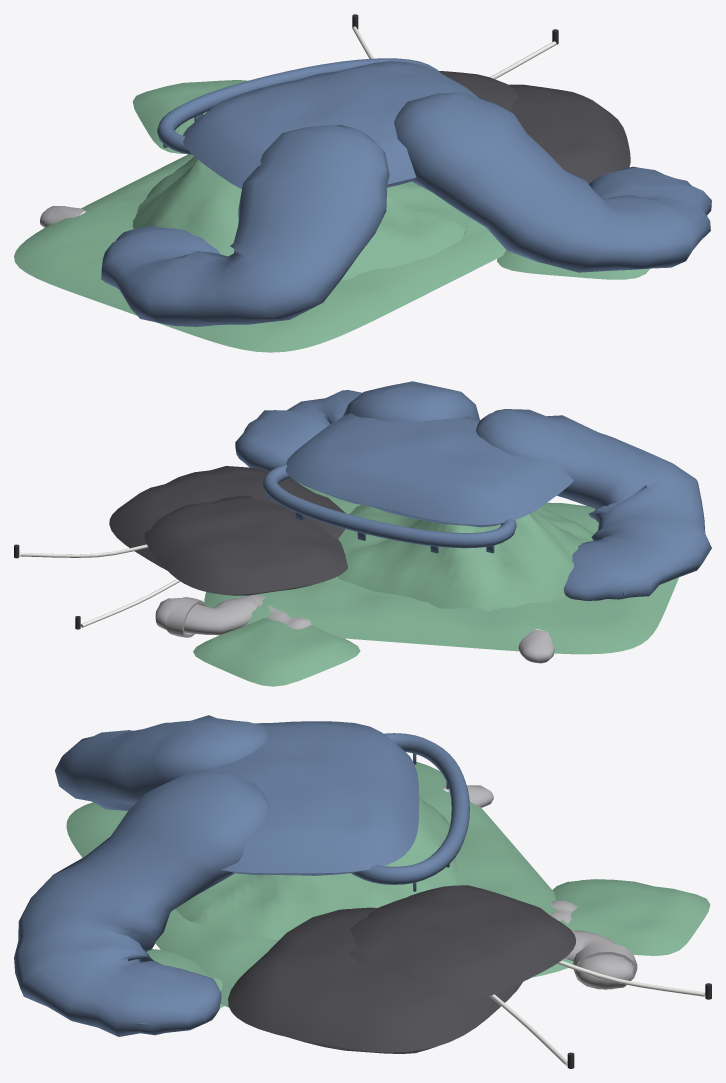
Rendered from textiles_clothes_pile_c.fbx.
3 views of the same model, one above another, from view 1: azimuth 30°, elevation 25°; view 2: azimuth 150°, elevation 25°; view 3: azimuth 270°, elevation 25° (orthographic). The views are drawn at different scales.
Visible parts, largest first — view 1: textiles_clothes_pile_c; view 2: textiles_clothes_pile_c; view 3: textiles_clothes_pile_c.
Part boxes in pixels (<box>): textiles_clothes_pile_c: <box>14,14,711,352</box>; textiles_clothes_pile_c: <box>14,381,711,686</box>; textiles_clothes_pile_c: <box>14,715,711,1068</box>.
Bounding box in the file's own units: 0.9121 × 0.2191 × 0.8383.
